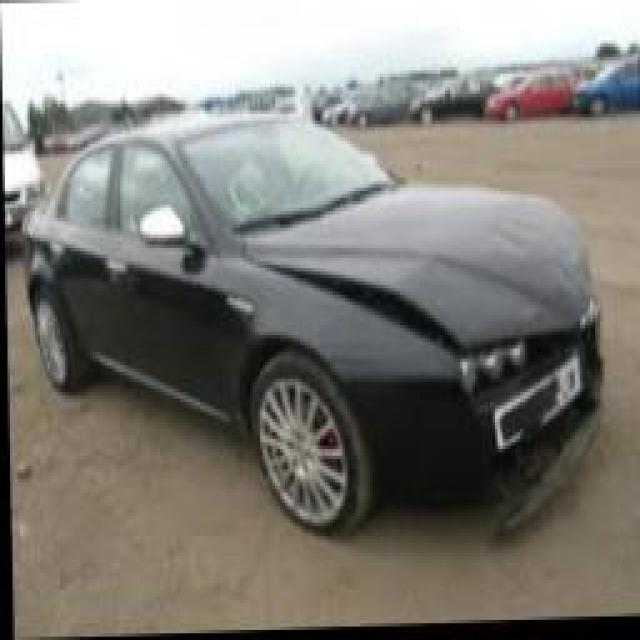Bonnet: (244, 181, 596, 362)
Bumper: (492, 382, 604, 537)
